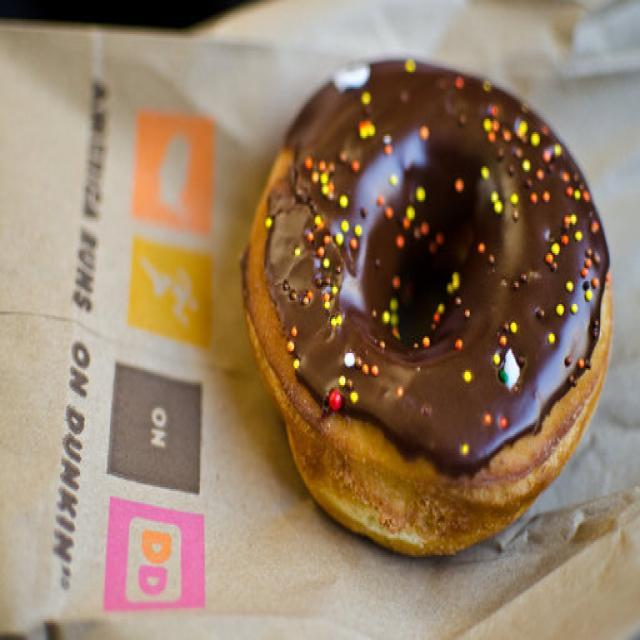Donuts: (227, 34, 622, 602)
